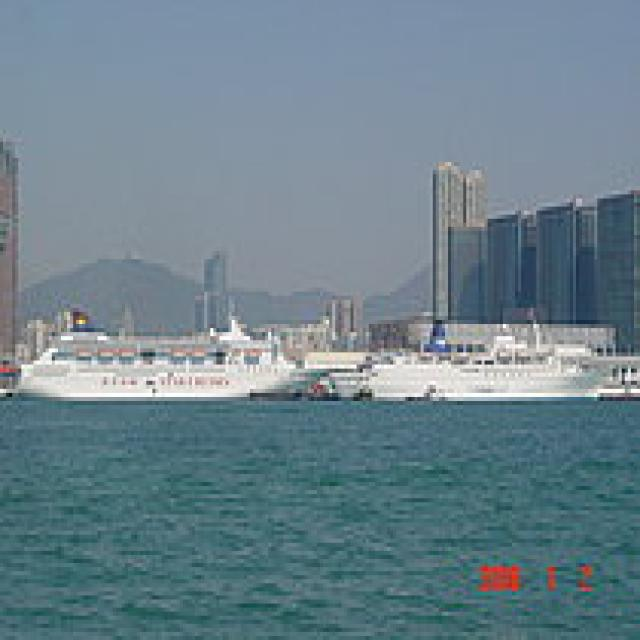boat: (23, 335, 299, 401), (350, 334, 598, 394)
